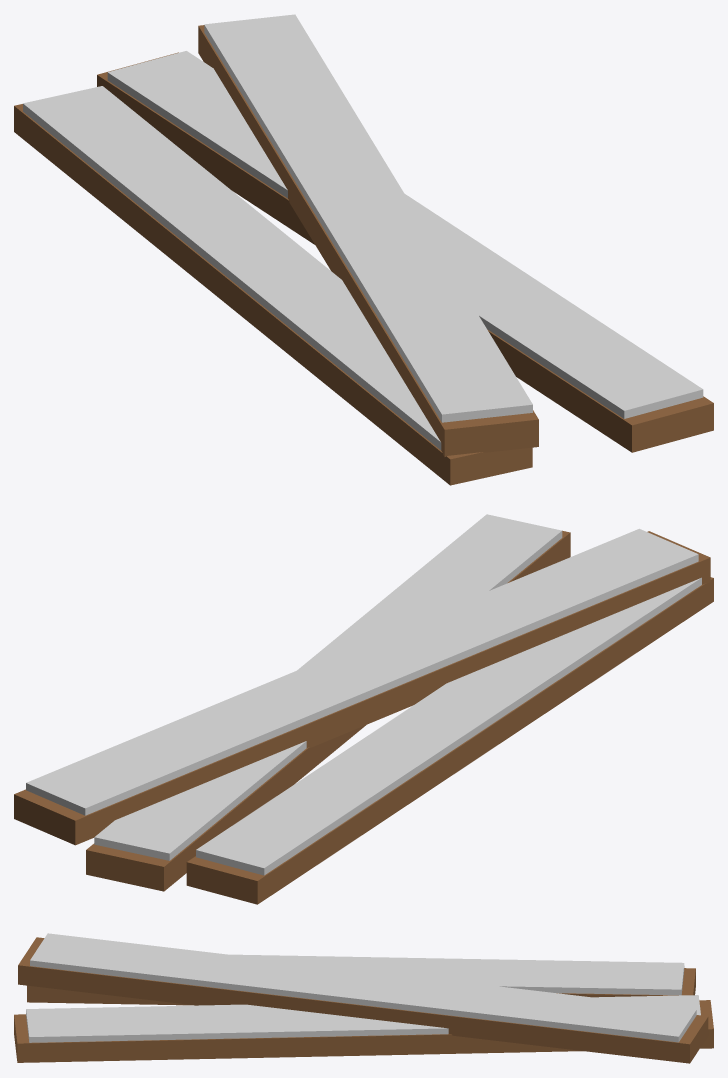
Rendered from Plank_3_snow_mat.fbx.
3 renders of one model, top to bottom at view 1: azimuth 30°, elevation 25°; view 2: azimuth 150°, elevation 25°; view 3: azimuth 270°, elevation 25°, orthographic. The views are drawn at different scales.
Parts seen in each view (by area): view 1: Plank_3_snow_mat; view 2: Plank_3_snow_mat; view 3: Plank_3_snow_mat.
Part boxes in pixels (left/top/right/bottom): Plank_3_snow_mat: left=14, top=14, right=713, bottom=485; Plank_3_snow_mat: left=14, top=514, right=713, bottom=904; Plank_3_snow_mat: left=14, top=933, right=713, bottom=1063.
Bounding box in the file's own units: 0.7342 × 0.1384 × 2.03.
